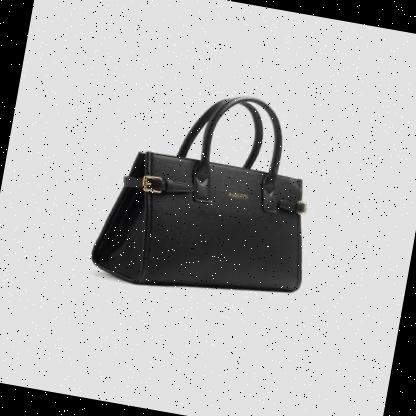bag: (74, 66, 344, 319)
